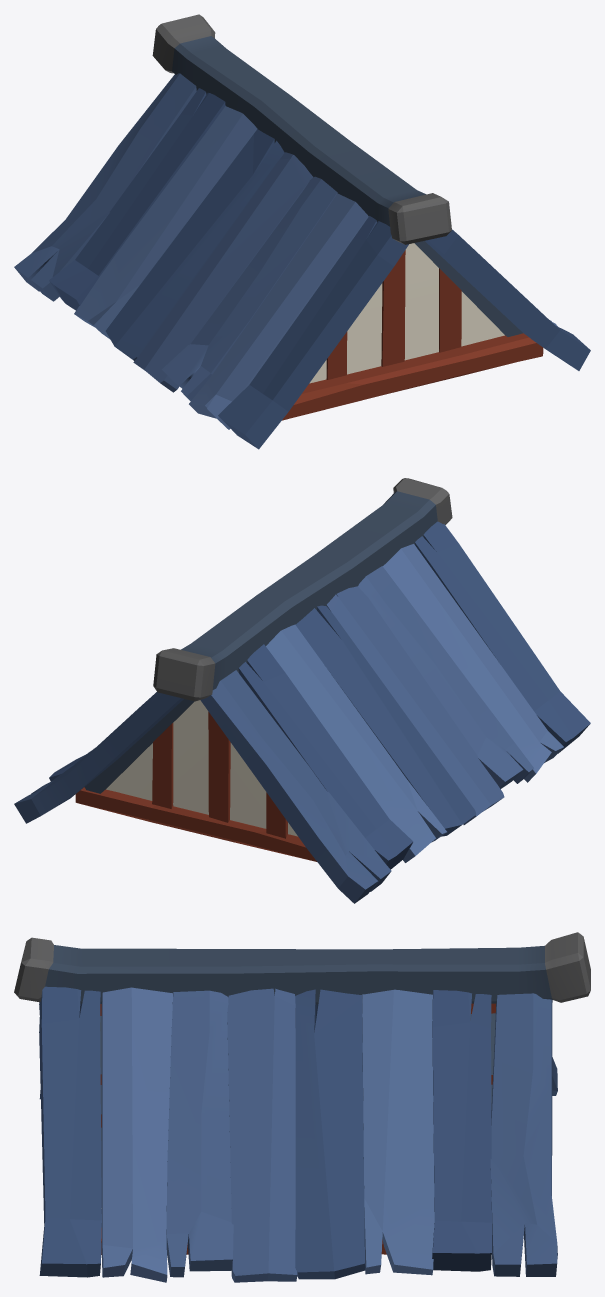
File: House_Roof_D.fbx
3 renders of one model, top to bottom at view 1: azimuth 30°, elevation 25°; view 2: azimuth 150°, elevation 25°; view 3: azimuth 270°, elevation 25°, orthographic. The views are drawn at different scales.
Parts seen in each view (by area): view 1: House_Roof_D; view 2: House_Roof_D; view 3: House_Roof_D.
Part boxes in pixels (x1,y1,x2,y2): House_Roof_D: [14, 14, 590, 449]; House_Roof_D: [14, 478, 590, 903]; House_Roof_D: [14, 932, 590, 1282].
Size of the model in its own units: 489 by 297 by 616.
